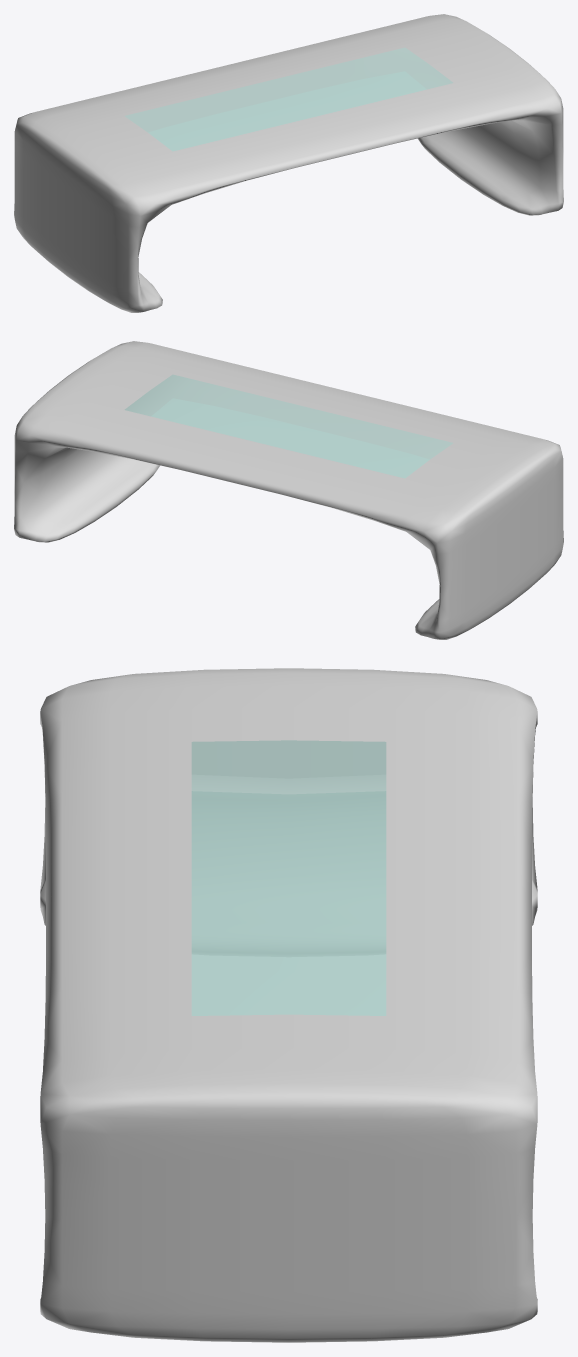
File: table_long.fbx
The picture shows the model from 3 angles, top to bottom: view 1: azimuth 30°, elevation 25°; view 2: azimuth 150°, elevation 25°; view 3: azimuth 270°, elevation 25°; orthographic projection. The views are drawn at different scales.
Visible parts, largest first — view 1: table_long; view 2: table_long; view 3: table_long.
Part boxes in pixels (<box>): table_long: <box>14,14,563,312</box>; table_long: <box>14,341,563,639</box>; table_long: <box>40,668,537,1342</box>.
Size of the model in its own units: 199 by 54.42 by 96.
